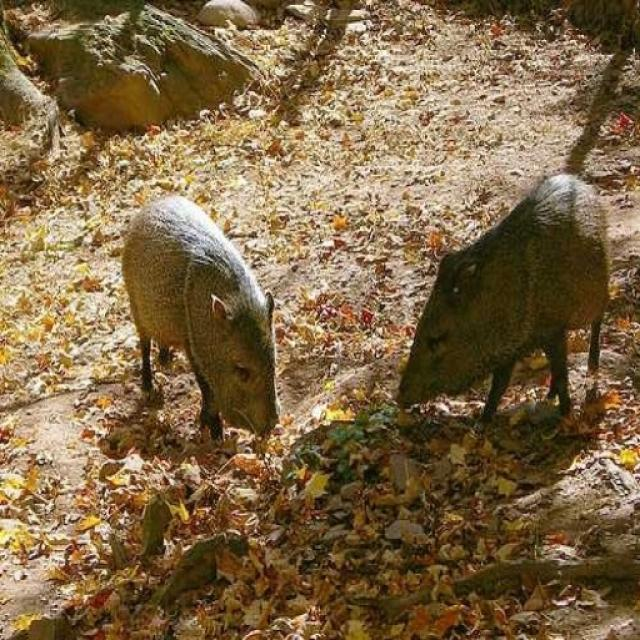pig: (393, 178, 630, 464), (110, 179, 310, 453)
